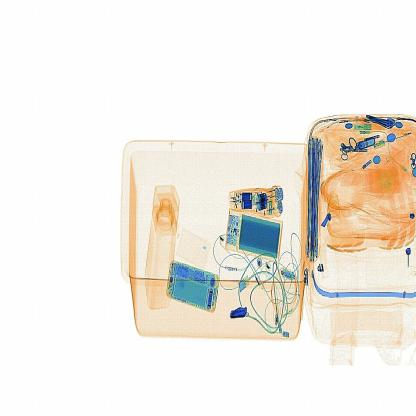knife: (226, 305, 251, 319)
